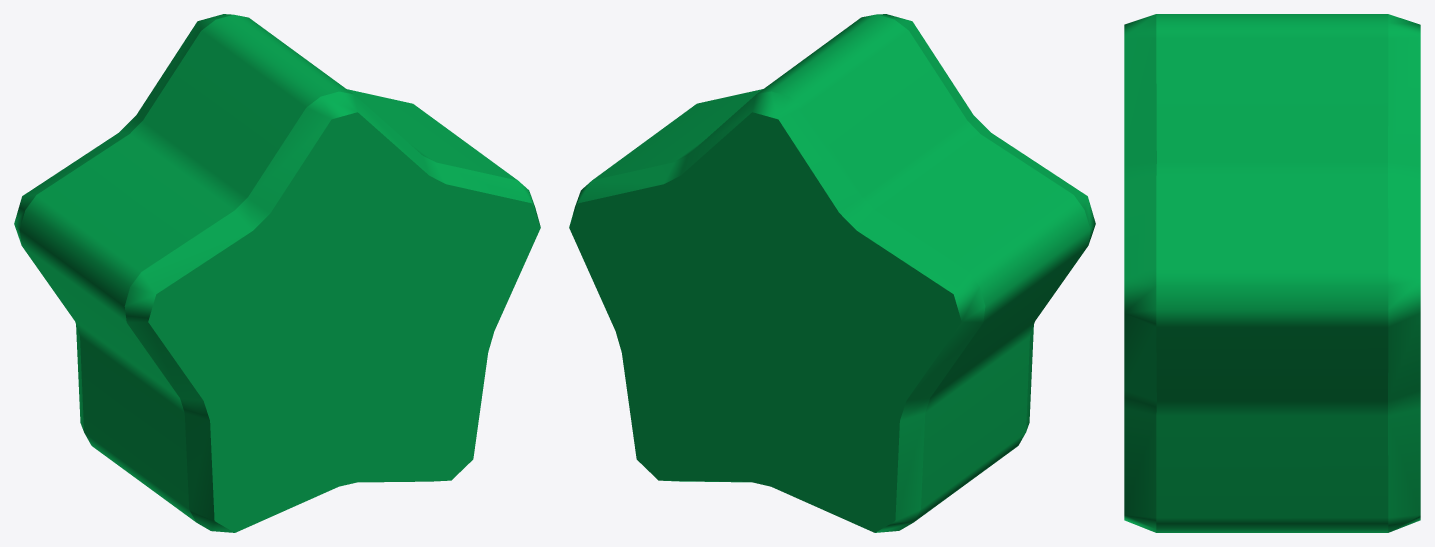
File: O_star.fbx
3 renders of one model, left to right at view 1: azimuth 30°, elevation 25°; view 2: azimuth 150°, elevation 25°; view 3: azimuth 270°, elevation 25°, orthographic. The views are drawn at different scales.
Visible parts, largest first — view 1: star; view 2: star; view 3: star.
Boxes of the visible parts, bbox=[...] form: star: bbox=[14, 14, 540, 532]; star: bbox=[569, 14, 1095, 532]; star: bbox=[1124, 14, 1420, 532].
Size of the model in its own units: 688 by 661 by 389.
